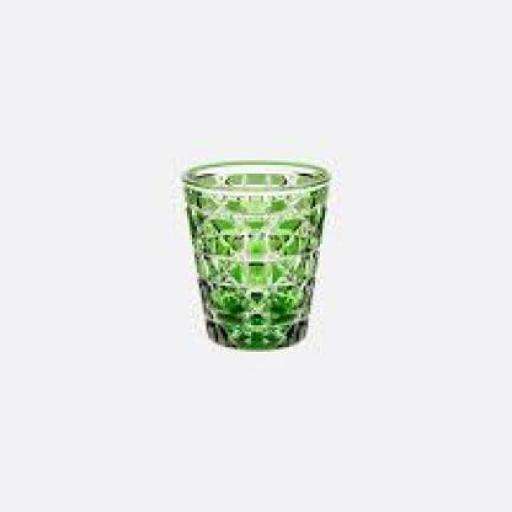glass: (180, 160, 330, 347)
